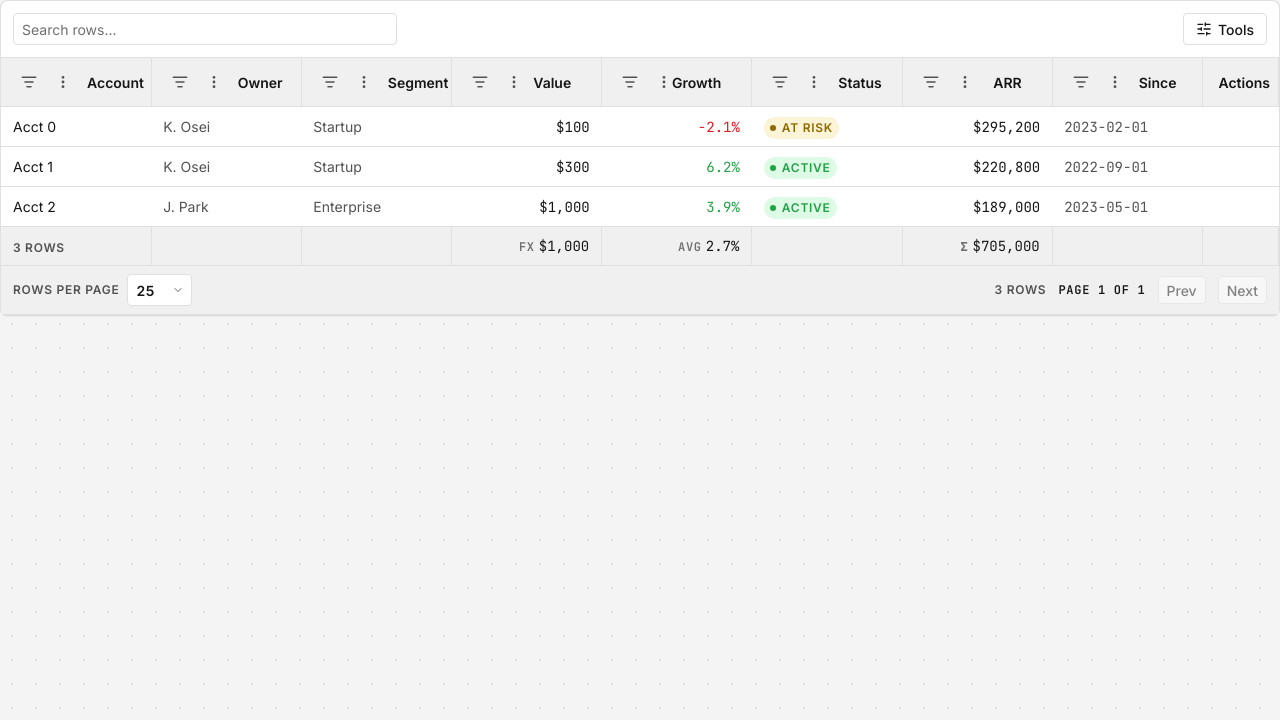
Scenario: DataGrid grouping & aggregation › renders custom aggregates in group rows and the totals footer
Click the button named "Segment column menu": point(364, 82) [348, 66, 380, 98]
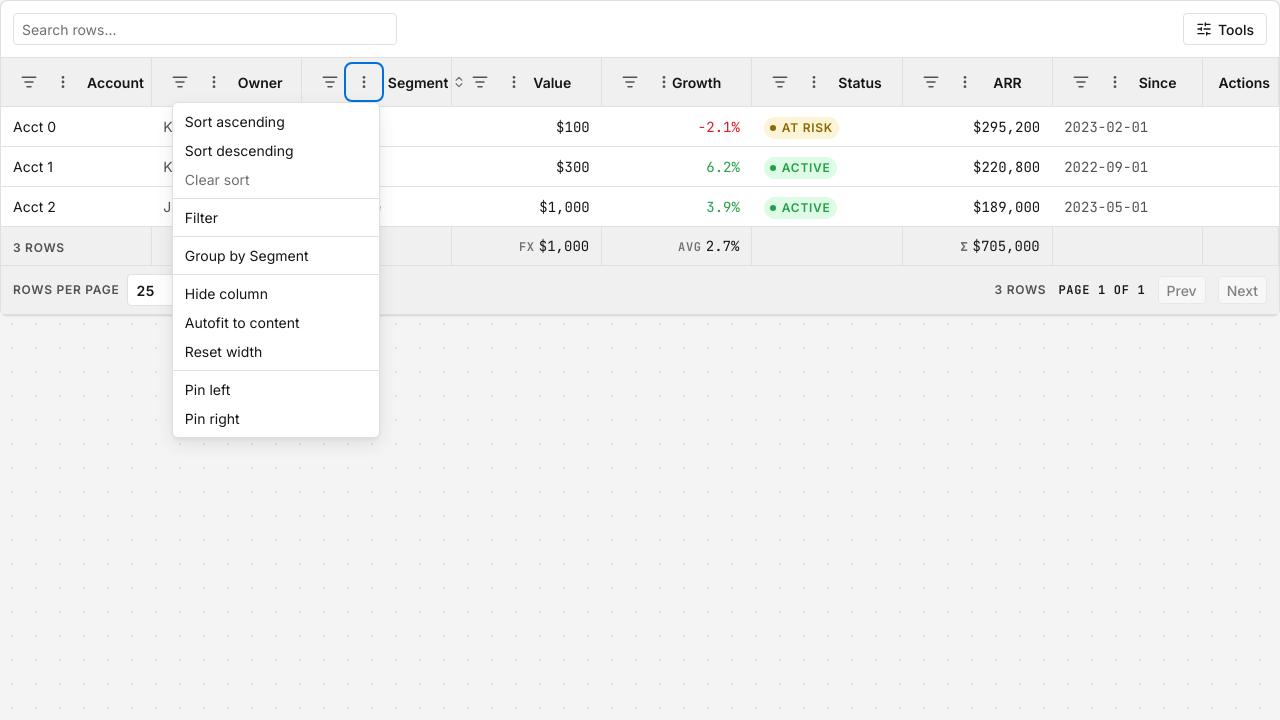
Click the menu item "Group by Segment": point(276, 256) [173, 241, 379, 270]
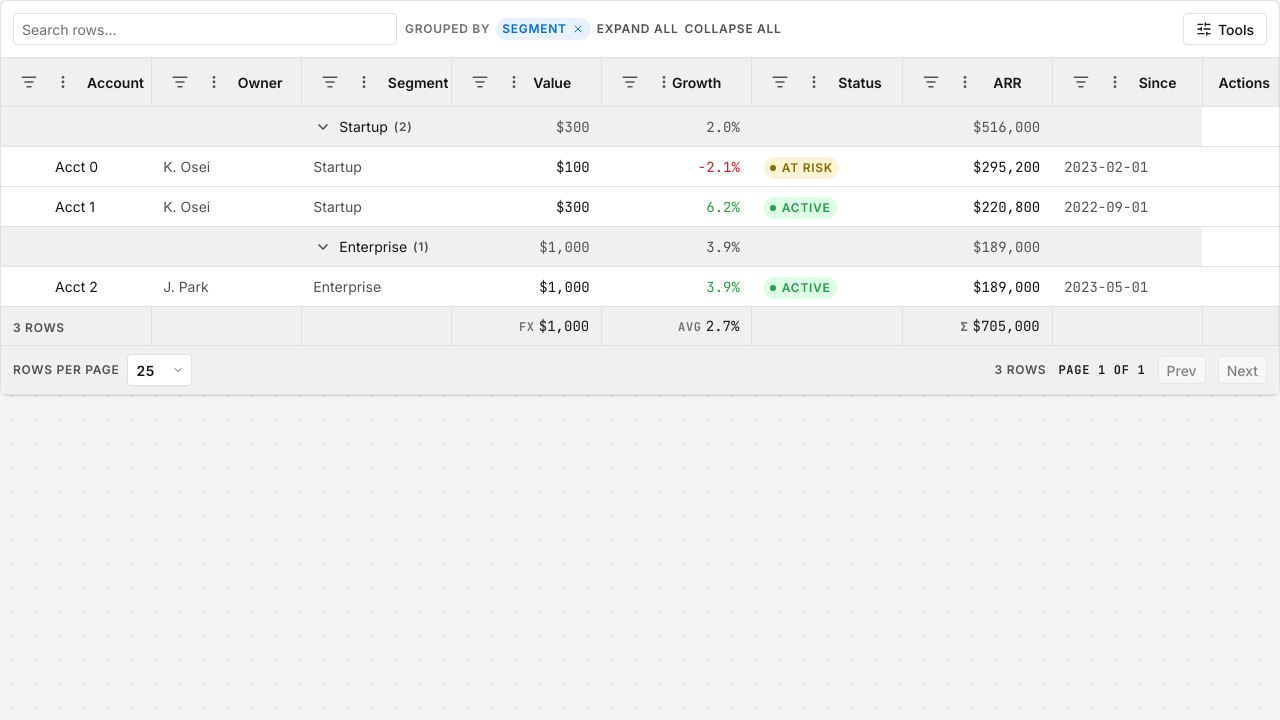
Check: the text "$300" next to "2.0%" is shown, box [556, 118, 590, 136]
Check: the row "Startup (2) $300 2.0% $516,000" is shown, box [1, 106, 1278, 146]
